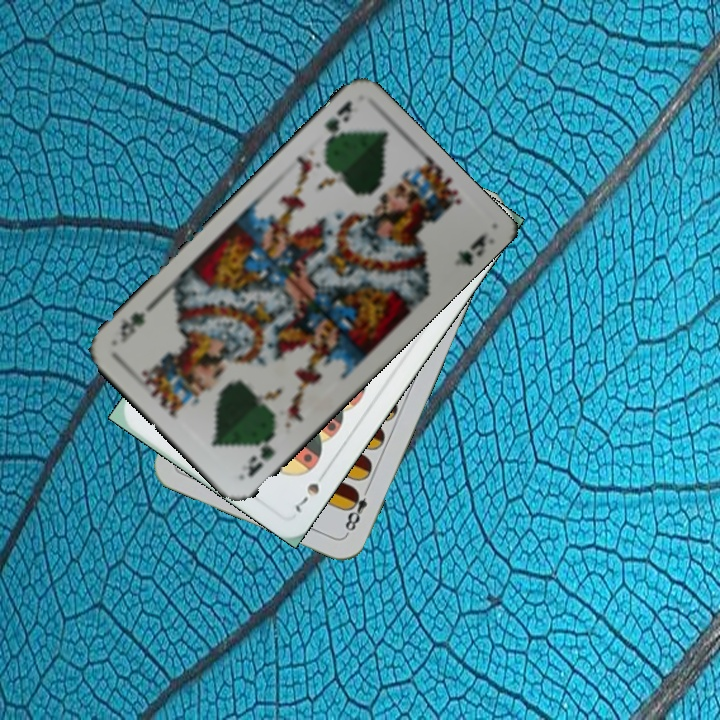E8: (340, 481, 373, 537)
GK: (320, 96, 354, 150), (243, 428, 278, 480)
S7: (291, 478, 322, 516)
